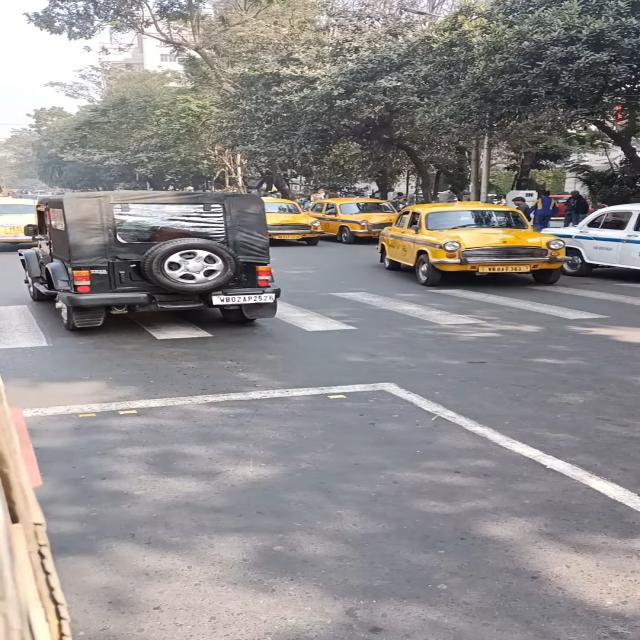Taxi: (366, 198, 573, 283)
